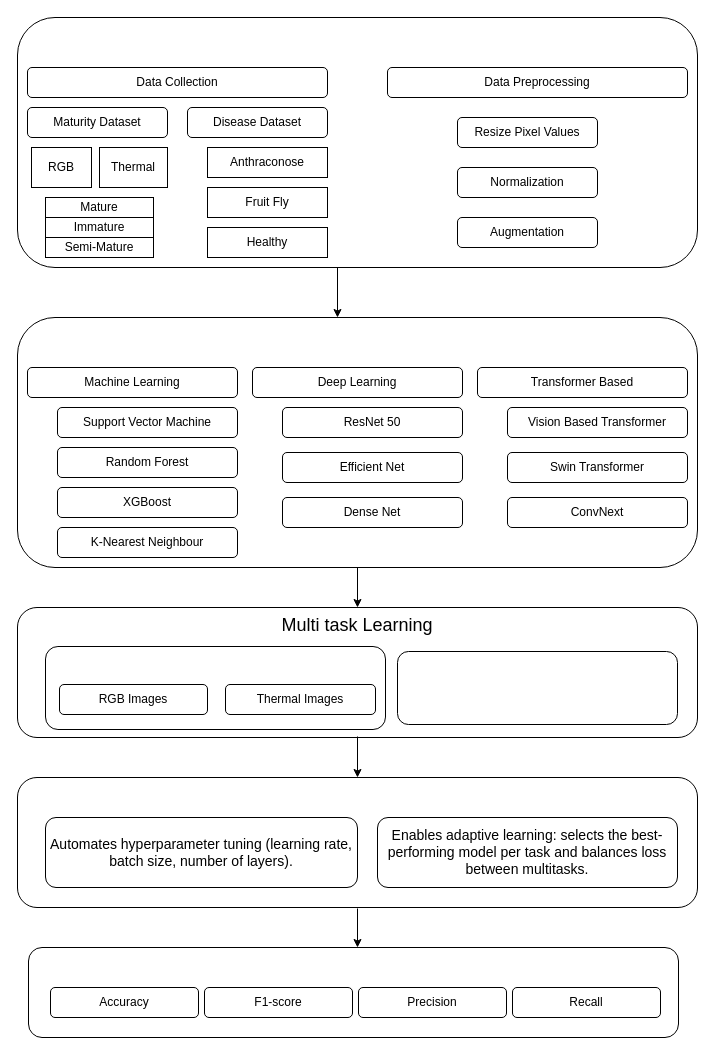
This 715x1055 diagram has some shape labels left out. The shapes that lost their labels are listed below. From the top down, each one's box as (x1, y1, x2, y2) in pixels, then its label:
(16, 16, 698, 268): Data Acquisation
(16, 316, 698, 568): Feature Extraction
(44, 646, 386, 730): Multi Modal Fusion
(396, 650, 678, 724): Diseased dataset
(16, 776, 698, 908): Agentic AI Layer
(28, 946, 678, 1038): Model Evaluation and Visualization
